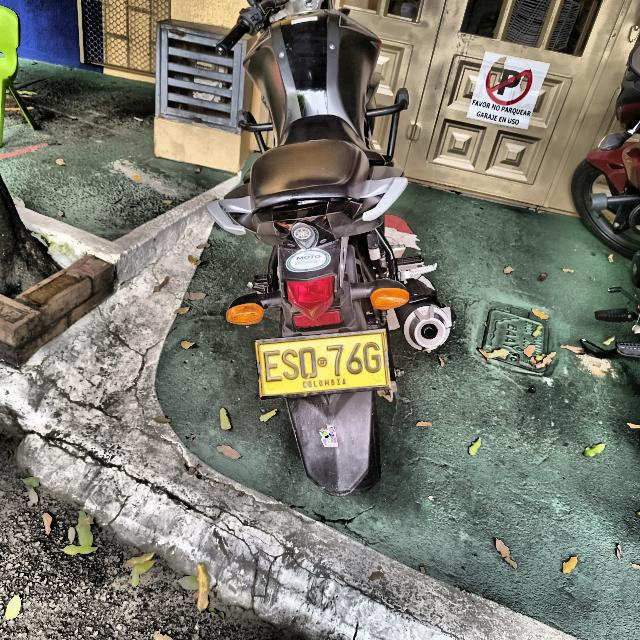plate: (256, 330, 389, 398)
